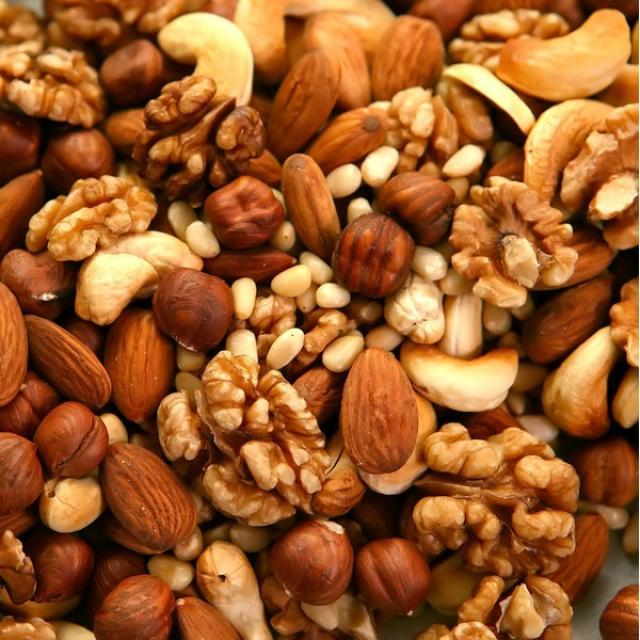Frutta secca: (15, 11, 631, 633)
